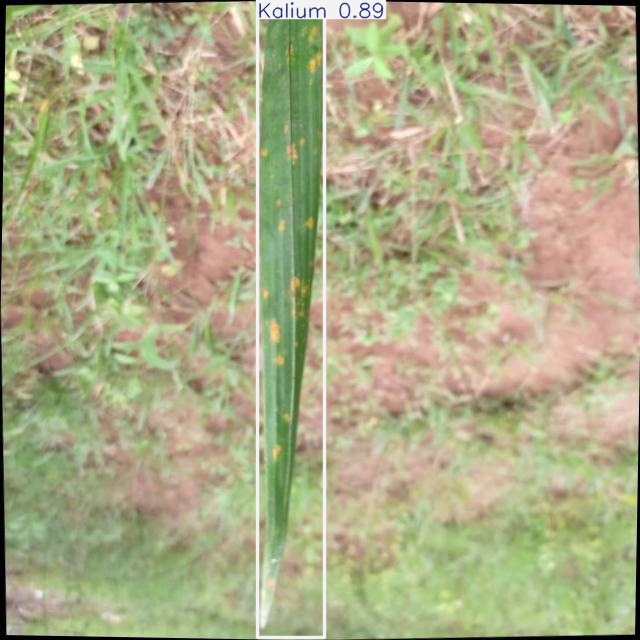Kalium: (257, 0, 325, 638)
